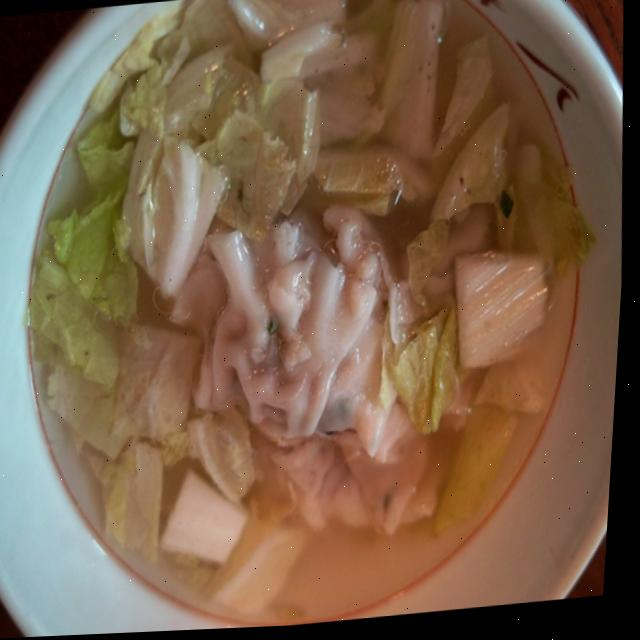带馅早点: (24, 0, 581, 582)
